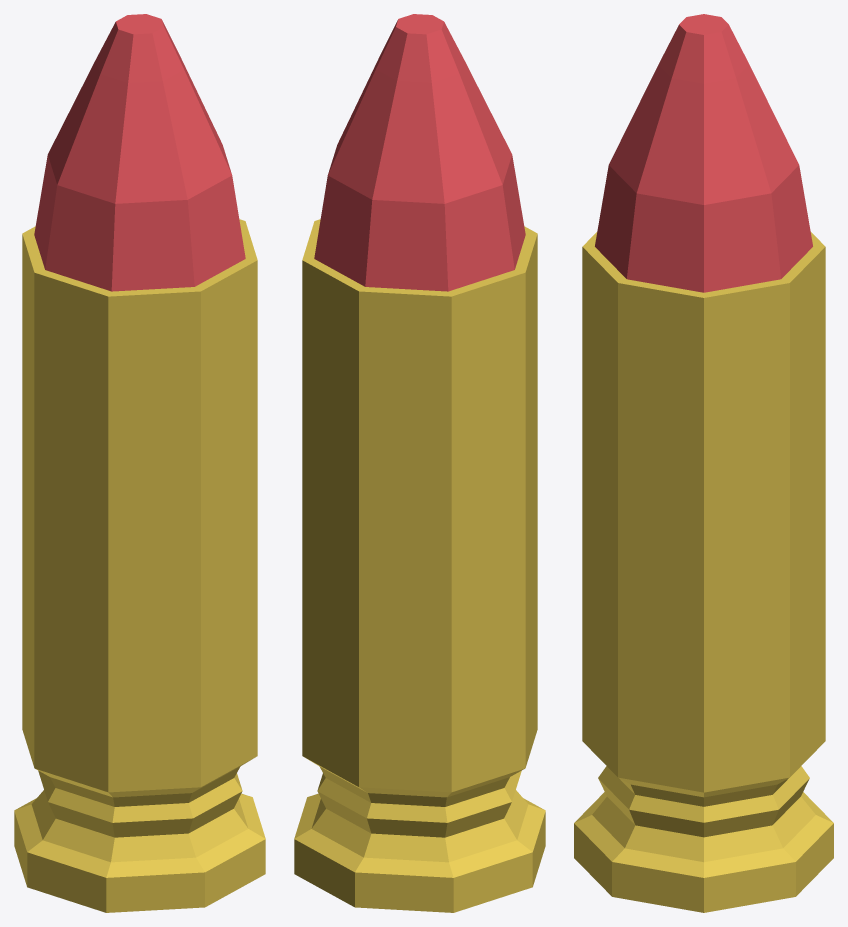
File: kogel.fbx
3 views of the same model, side by side, from view 1: azimuth 30°, elevation 25°; view 2: azimuth 150°, elevation 25°; view 3: azimuth 270°, elevation 25° (orthographic).
Parts seen in each view (by area): view 1: Kogel01; view 2: Kogel01; view 3: Kogel01.
Boxes of the visible parts, x1=… form: Kogel01: x1=14, y1=14, x2=265, y2=912; Kogel01: x1=294, y1=14, x2=545, y2=912; Kogel01: x1=574, y1=14, x2=833, y2=912.
Bounding box in the file's own units: 1.03 × 3.65 × 1.03.
